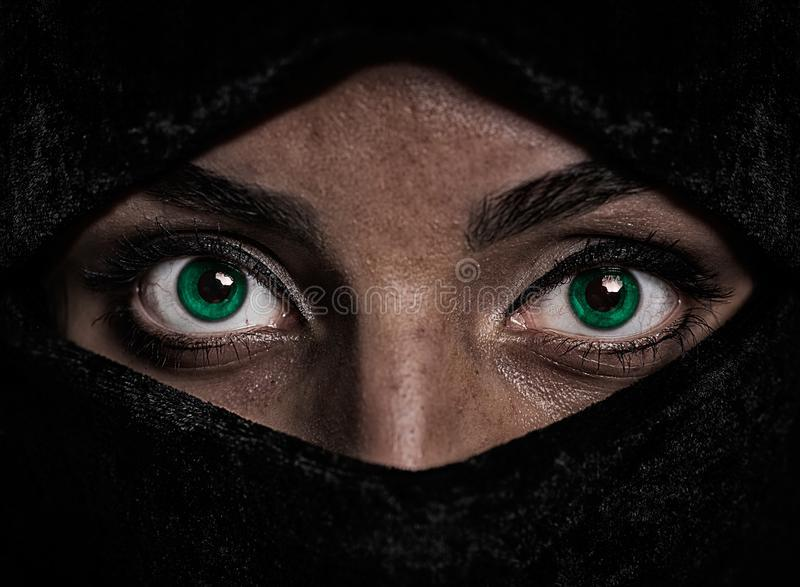No Mask: (0, 7, 800, 586)
